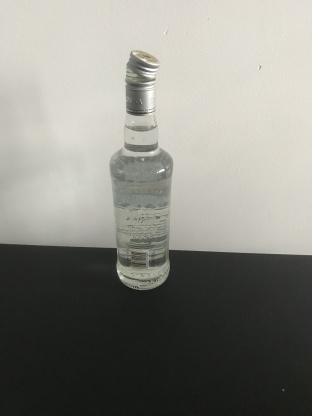nakretka: (124, 48, 160, 116)
